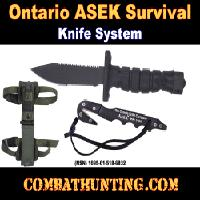knife: (28, 50, 186, 83)
